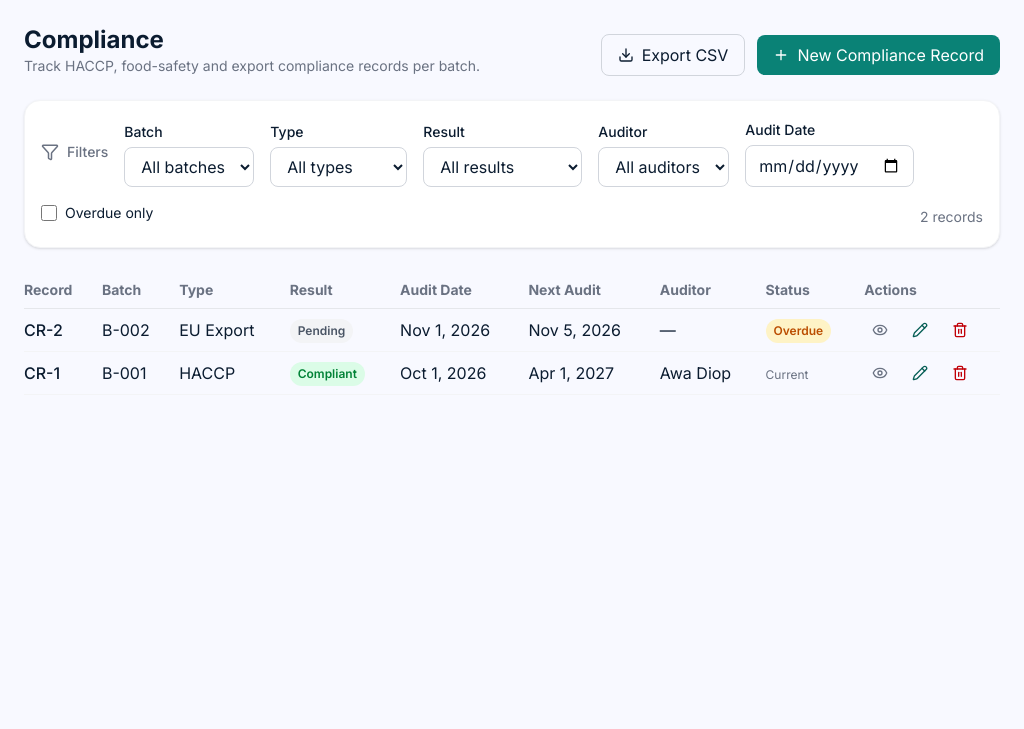
ComplianceRecordList › blocks creation when required fields are missing
Expected: the text "CR-1" is shown, [24, 352, 102, 394]
Click the button "New Compliance Record" at (879, 55), box [757, 35, 1000, 75]
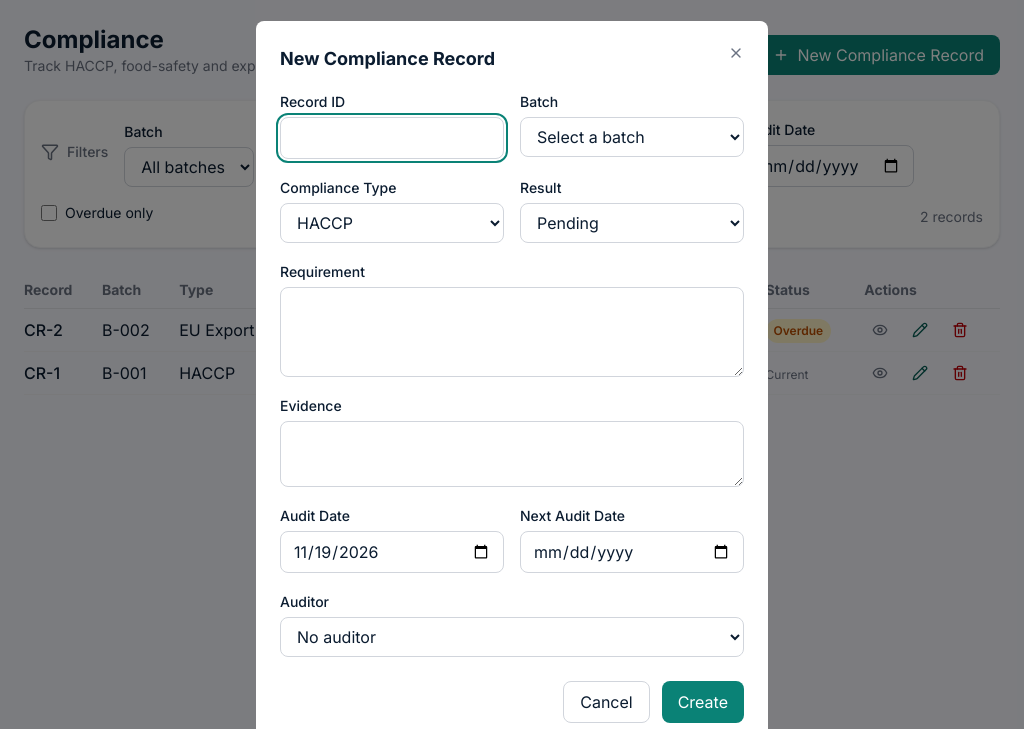
Click the button "Create" at (703, 702), box [662, 681, 744, 723]
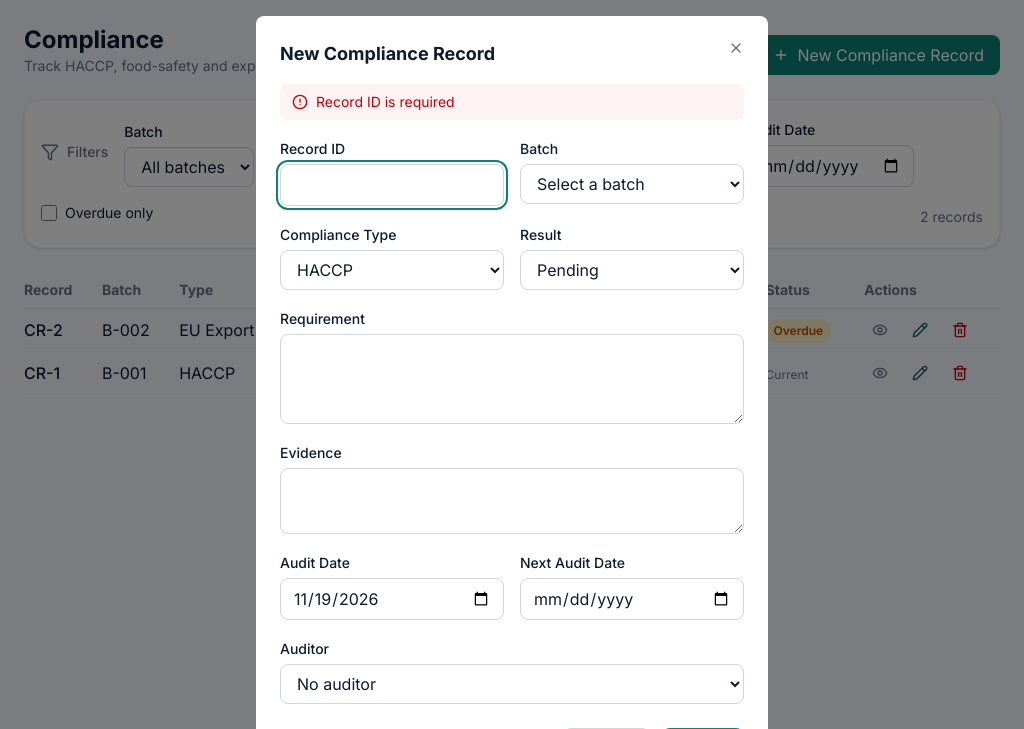
Now the text "Record ID is required" is shown, box [316, 92, 455, 112]
